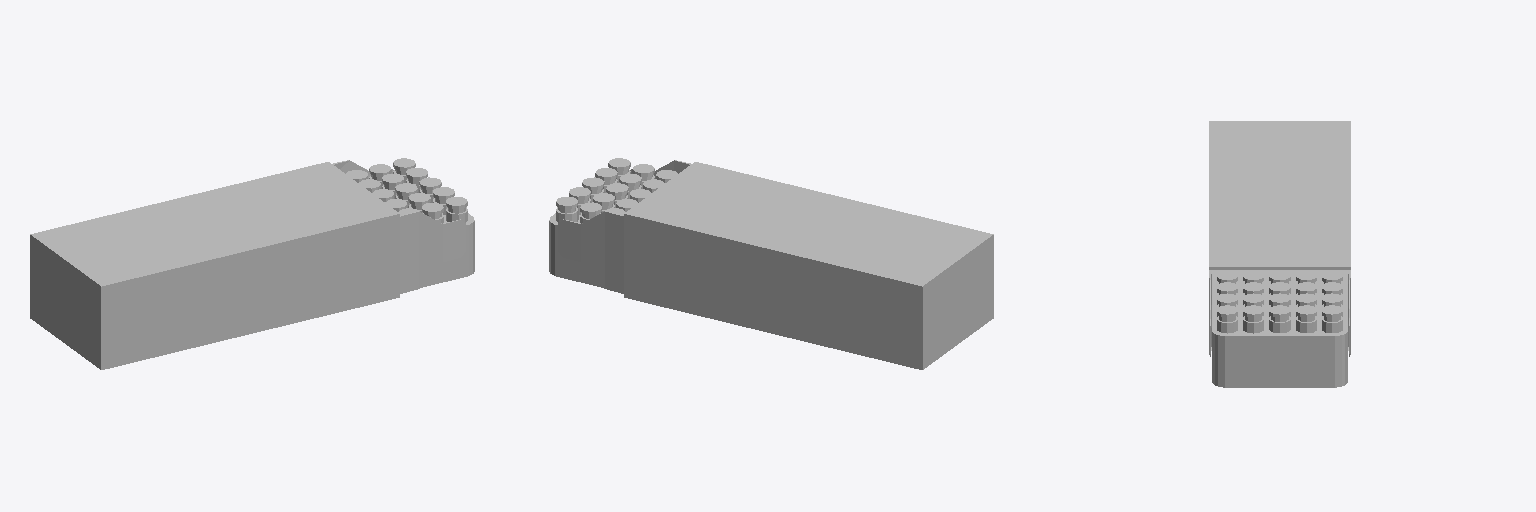
The model's file is box_ammo.obj.
The picture shows the model from 3 angles: view 1: azimuth 30°, elevation 25°; view 2: azimuth 150°, elevation 25°; view 3: azimuth 270°, elevation 25°; orthographic projection.
Visible parts, largest first — view 1: whole; view 2: whole; view 3: whole.
Part boxes in pixels (bbox=[...]): whole: bbox=[30, 158, 474, 369]; whole: bbox=[549, 158, 993, 369]; whole: bbox=[1209, 121, 1350, 387].
Bounding box in the file's own units: 6.16 × 1.3 × 2.